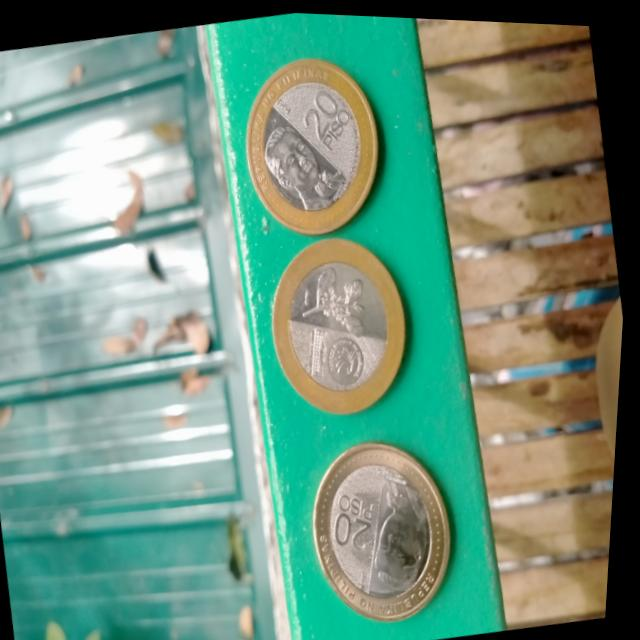20_New_Back: (288, 252, 387, 337)
20_New_Front: (294, 69, 362, 154), (327, 479, 393, 565)
